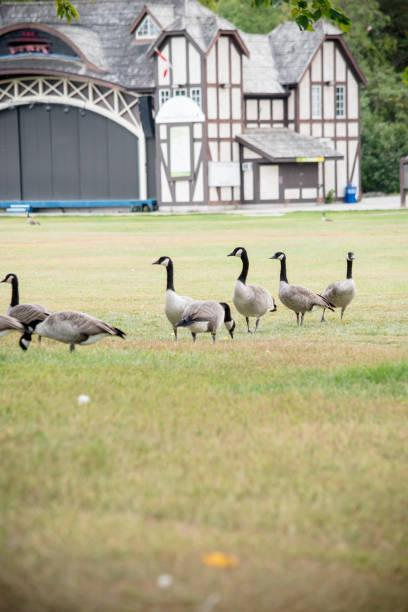Canadian-Goose: (25, 310, 127, 353), (271, 248, 327, 323), (225, 245, 272, 325), (154, 250, 194, 343), (179, 296, 236, 345), (3, 270, 46, 333), (328, 249, 363, 317)
